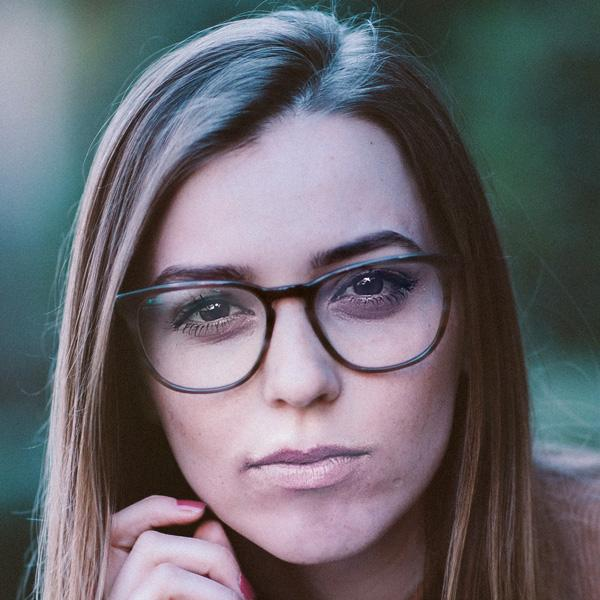Eyes: (164, 280, 262, 346), (321, 257, 422, 317)
